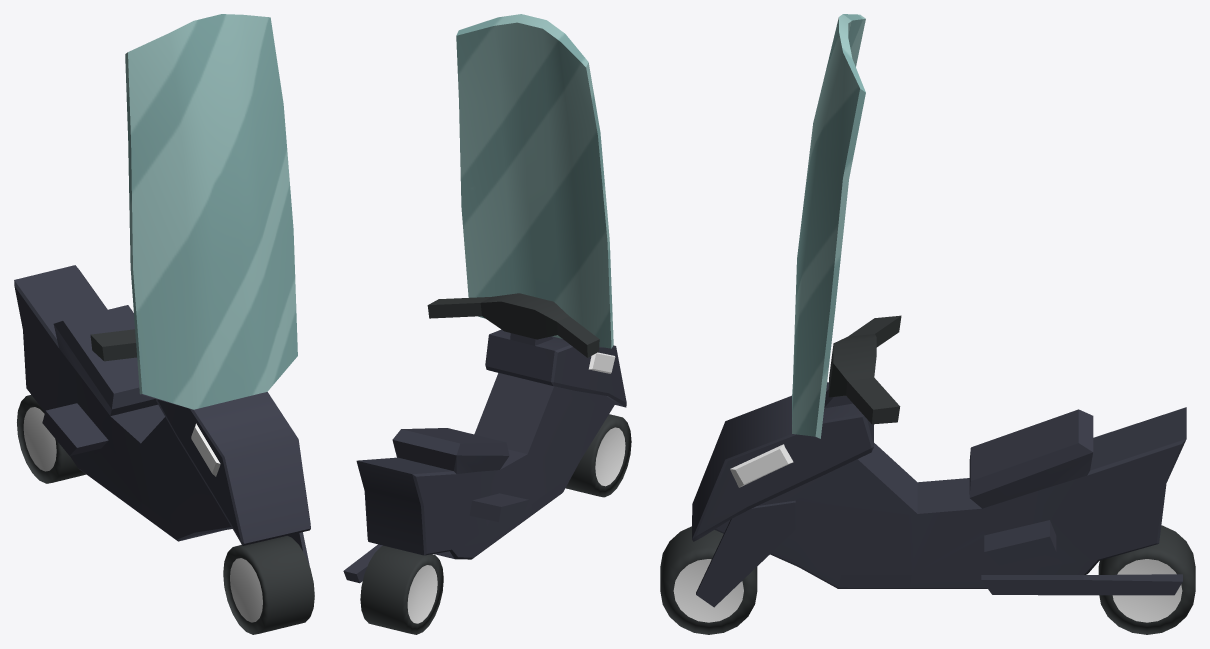
Rendered from motorcycle 1 black.fbx.
3 renders of one model, left to right at view 1: azimuth 30°, elevation 25°; view 2: azimuth 150°, elevation 25°; view 3: azimuth 270°, elevation 25°, orthographic. The views are drawn at different scales.
Parts seen in each view (by area): view 1: motorcycle_1_black; view 2: motorcycle_1_black; view 3: motorcycle_1_black.
Boxes of the visible parts, x1,y1,x2,y2 form: motorcycle_1_black: (14, 14, 314, 634); motorcycle_1_black: (343, 14, 631, 634); motorcycle_1_black: (660, 14, 1195, 634).
Bounding box in the file's own units: 47.17 × 143 × 116.
